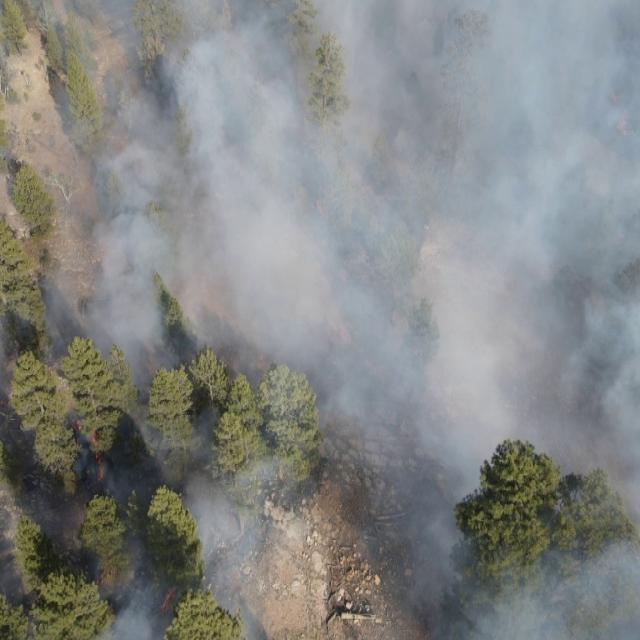fire: (74, 418, 112, 487), (609, 88, 636, 141), (159, 584, 178, 614), (0, 394, 8, 410)
smoke: (0, 0, 640, 640)
